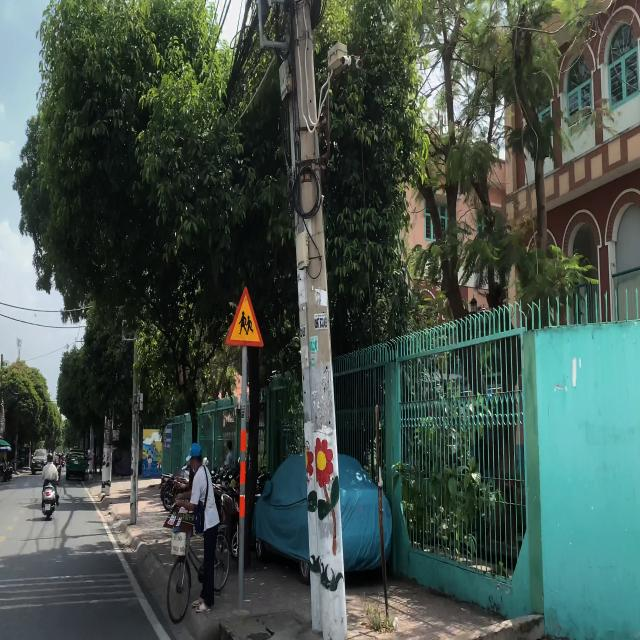Nguy hiem: (223, 282, 266, 350)
